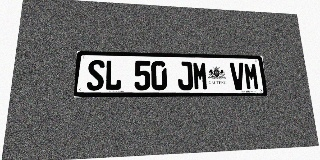0: (151, 61, 167, 90)
5: (135, 60, 151, 90)
J: (177, 61, 193, 90)
L: (104, 60, 122, 90)
M: (243, 63, 260, 90), (192, 62, 208, 90)
S: (86, 60, 105, 91)
V: (230, 62, 246, 90)
